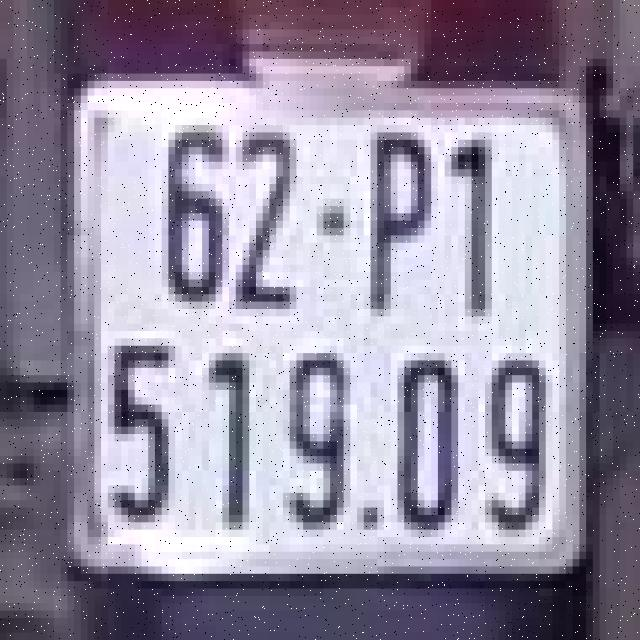0: (388, 338, 468, 544)
1: (438, 103, 512, 324), (192, 327, 259, 541)
2: (226, 114, 306, 327)
5: (104, 320, 178, 541)
6: (158, 118, 232, 316)
9: (276, 350, 357, 534), (482, 349, 556, 548)
P: (354, 114, 441, 327)
